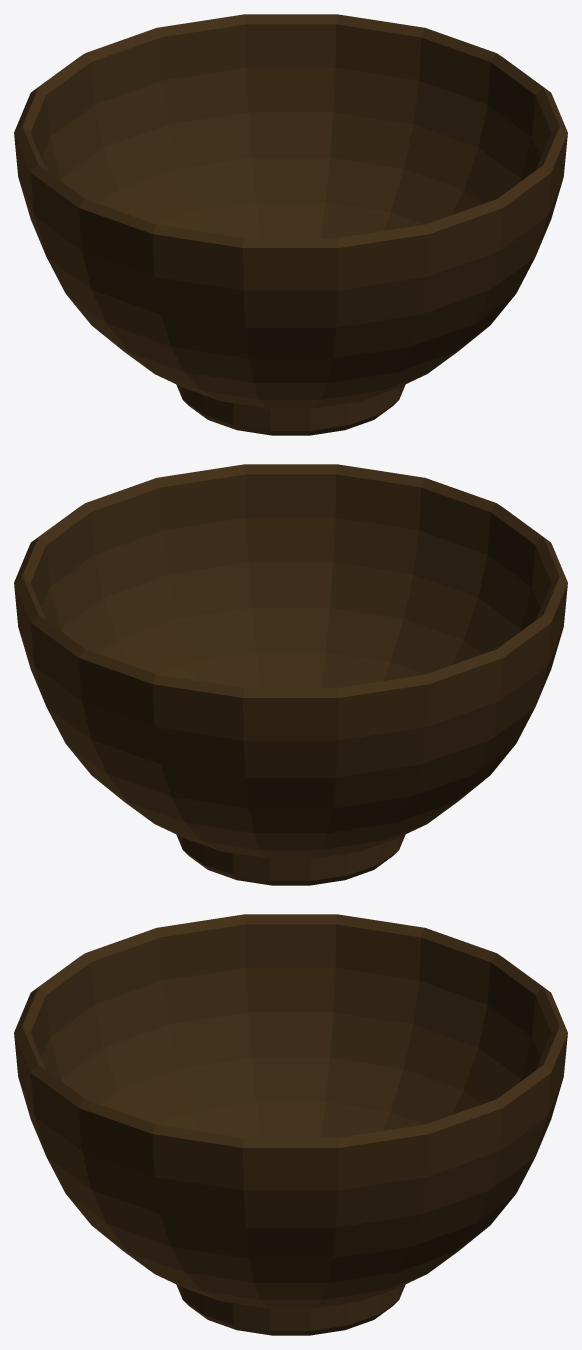
The model's file is Bowl_v004(UV_Unwrapped).fbx.
The picture shows the model from 3 angles, top to bottom: view 1: azimuth 30°, elevation 25°; view 2: azimuth 150°, elevation 25°; view 3: azimuth 270°, elevation 25°; orthographic projection.
Visible parts, largest first — view 1: Bowl; view 2: Bowl; view 3: Bowl.
Boxes of the visible parts, x1,y1,x2,y2 form: Bowl: (14,14,567,435); Bowl: (14,464,567,885); Bowl: (14,914,567,1335).
Bounding box in the file's own units: 197 × 105 × 200.
